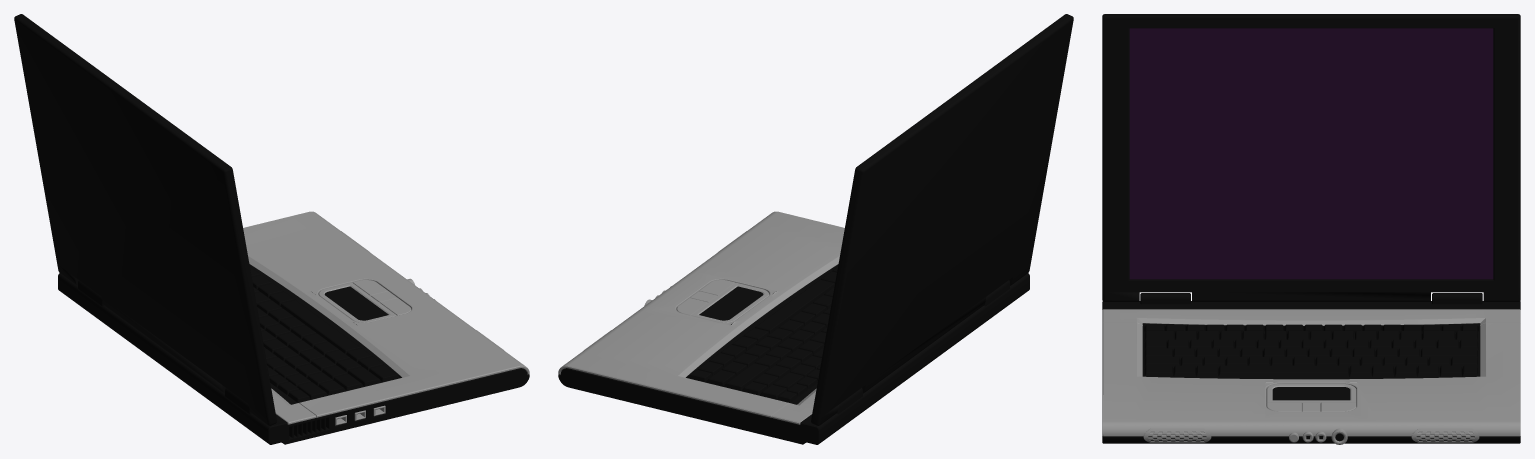
Rendered from book.FBX.
The picture shows the model from 3 angles, left to right: view 1: azimuth 30°, elevation 25°; view 2: azimuth 150°, elevation 25°; view 3: azimuth 270°, elevation 25°; orthographic projection.
Visible parts, largest first — view 1: Arch35_052_051, Arch35_052_048, Arch35_052_049, Arch35_052_054, Arch35_052_053, Arch35_052_052; view 2: Arch35_052_051, Arch35_052_048, Arch35_052_049, Arch35_052_054, Arch35_052_053, Arch35_052_052; view 3: Arch35_052_050, Arch35_052_048, Arch35_052_051, Arch35_052_054, Arch35_052_049, Arch35_052_052, Arch35_052_053.
Boxes of the visible parts, box(x1,y1,x2,y2) form: Arch35_052_051: box(14, 14, 276, 425); Arch35_052_048: box(243, 211, 529, 424); Arch35_052_049: box(58, 273, 529, 444); Arch35_052_054: box(250, 267, 399, 402); Arch35_052_053: box(324, 286, 388, 320); Arch35_052_052: box(249, 264, 401, 404); Arch35_052_051: box(811, 14, 1073, 425); Arch35_052_048: box(558, 211, 844, 424); Arch35_052_049: box(558, 273, 1029, 444); Arch35_052_054: box(688, 267, 837, 402); Arch35_052_053: box(699, 286, 763, 320); Arch35_052_052: box(686, 264, 838, 404); Arch35_052_050: box(1129, 28, 1493, 279); Arch35_052_048: box(1102, 309, 1520, 444); Arch35_052_051: box(1102, 14, 1520, 301); Arch35_052_054: box(1144, 324, 1478, 376); Arch35_052_049: box(1102, 293, 1520, 443); Arch35_052_052: box(1142, 323, 1480, 379); Arch35_052_053: box(1272, 387, 1350, 400).
Bounding box in the file's own units: 320 × 288 × 380.
